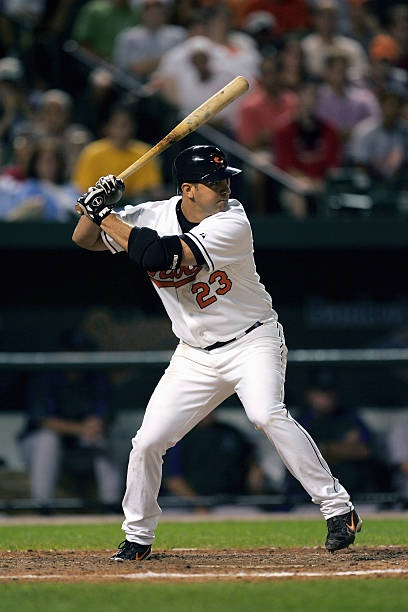bita: (98, 72, 240, 192)
